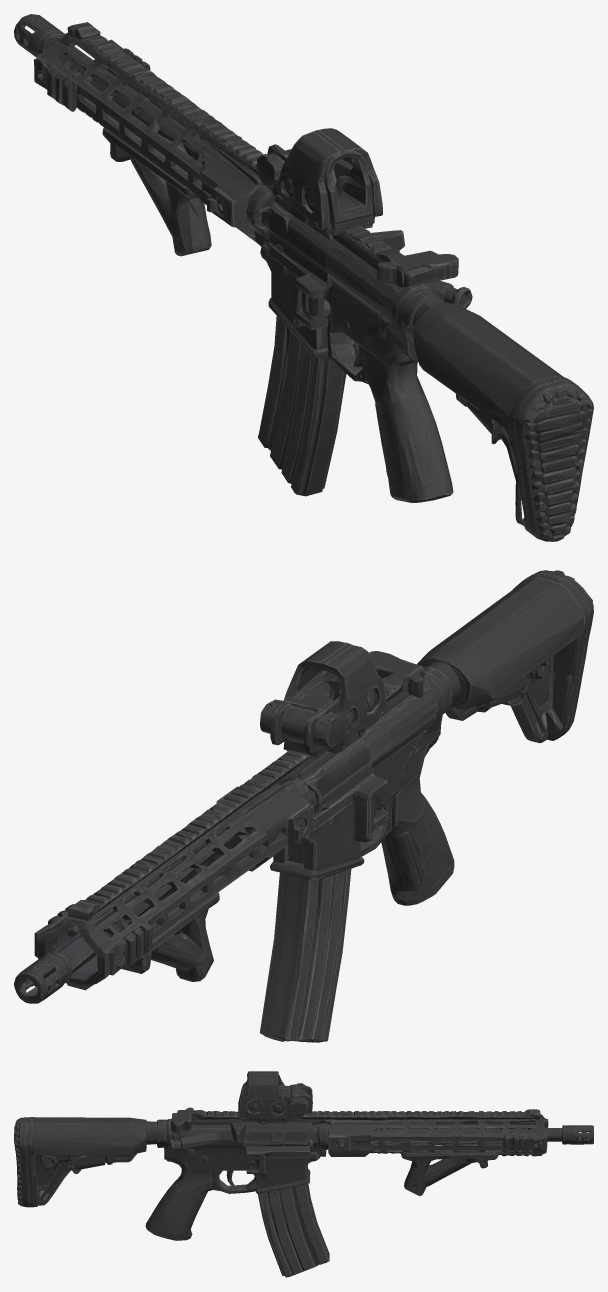
File: rifle.glb
3 views of the same model, one above another, from view 1: azimuth 30°, elevation 25°; view 2: azimuth 150°, elevation 25°; view 3: azimuth 270°, elevation 25° (orthographic). The views are drawn at different scales.
Visible parts, largest first — view 1: output_unwrapped; view 2: output_unwrapped; view 3: output_unwrapped.
Boxes of the visible parts, <box> form: output_unwrapped: <box>14,14,593,541</box>; output_unwrapped: <box>14,570,593,1042</box>; output_unwrapped: <box>14,1071,593,1277</box>.
Bounding box in the file's own units: 0.118 × 0.4064 × 1.07.
Materials: 1 (1 with a texture image).
